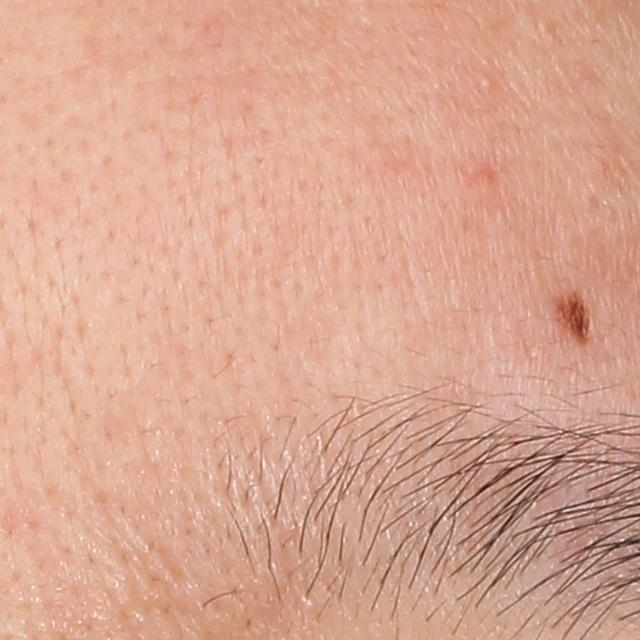nevus: (552, 286, 608, 344)
